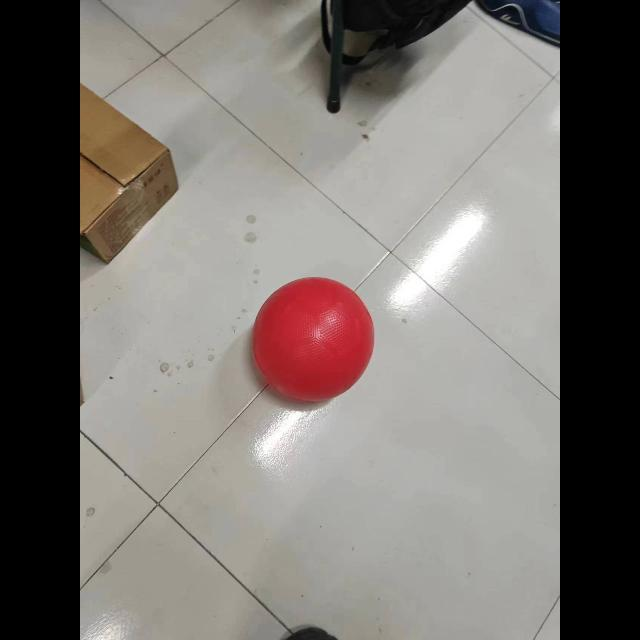R: (248, 274, 380, 404)
